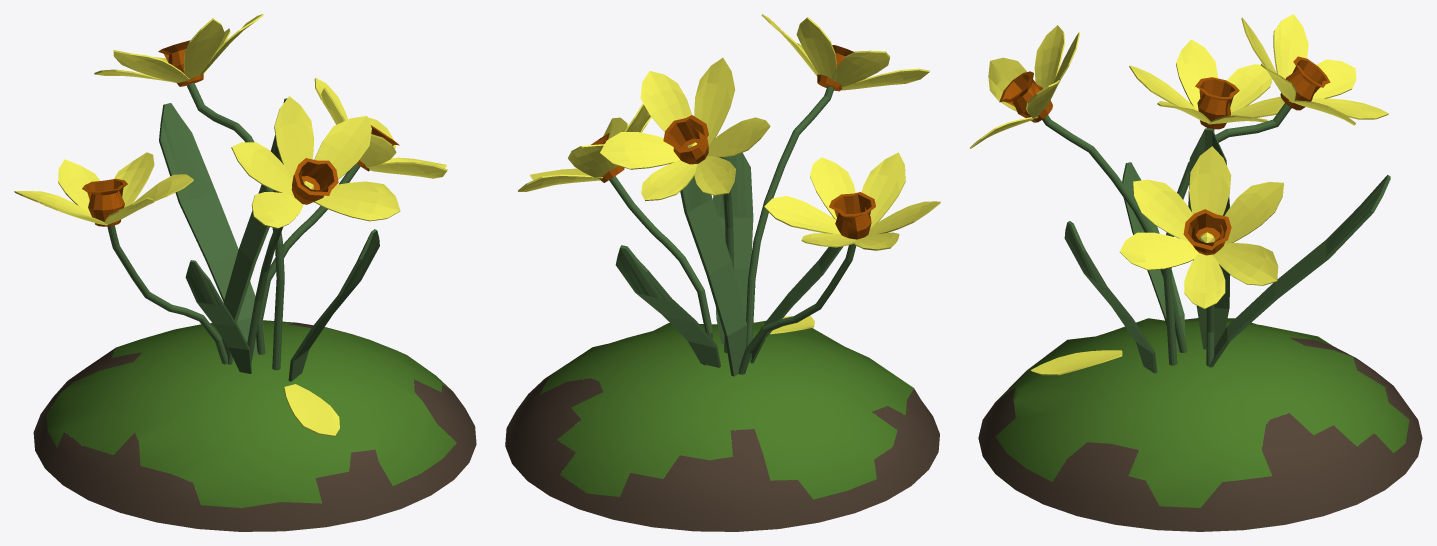
File: daffodil.glb
3 renders of one model, left to right at view 1: azimuth 30°, elevation 25°; view 2: azimuth 150°, elevation 25°; view 3: azimuth 270°, elevation 25°, orthographic.
Visible parts, largest first — view 1: Sphere001, GeoSphere002, Box013; view 2: Sphere001, GeoSphere002; view 3: Sphere001, GeoSphere002, Box013.
Boxes of the visible parts, bbox=[...] form: Sphere001: bbox=[33, 320, 476, 531]; GeoSphere002: bbox=[14, 14, 447, 381]; Box013: bbox=[284, 384, 339, 436]; Sphere001: bbox=[505, 320, 939, 531]; GeoSphere002: bbox=[518, 14, 940, 376]; Sphere001: bbox=[978, 318, 1422, 531]; GeoSphere002: bbox=[970, 14, 1390, 373]; Box013: bbox=[1031, 350, 1122, 375].
Size of the model in its own units: 120 by 114 by 114.
